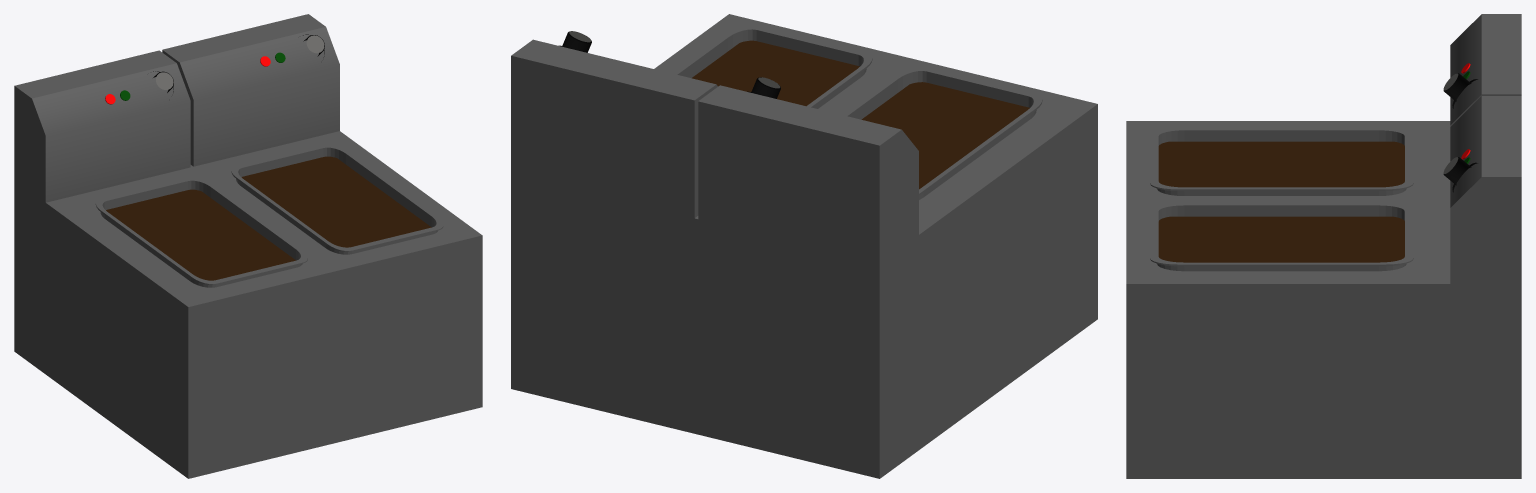
File: KitchenFryer.obj
The picture shows the model from 3 angles, left to right: view 1: azimuth 30°, elevation 25°; view 2: azimuth 150°, elevation 25°; view 3: azimuth 270°, elevation 25°; orthographic projection. The views are drawn at different scales.
Parts seen in each view (by area): view 1: Object_4; view 2: Object_4; view 3: Object_4.
Part boxes in pixels (box(x1,y1,x2,y2)): Object_4: box(14, 14, 482, 478); Object_4: box(511, 14, 1097, 478); Object_4: box(1126, 14, 1521, 478).
Bounding box in the file's own units: 0.62 × 0.5451 × 0.6352.
